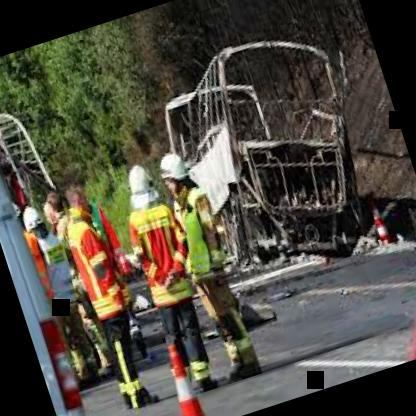accident: (147, 19, 394, 294)
